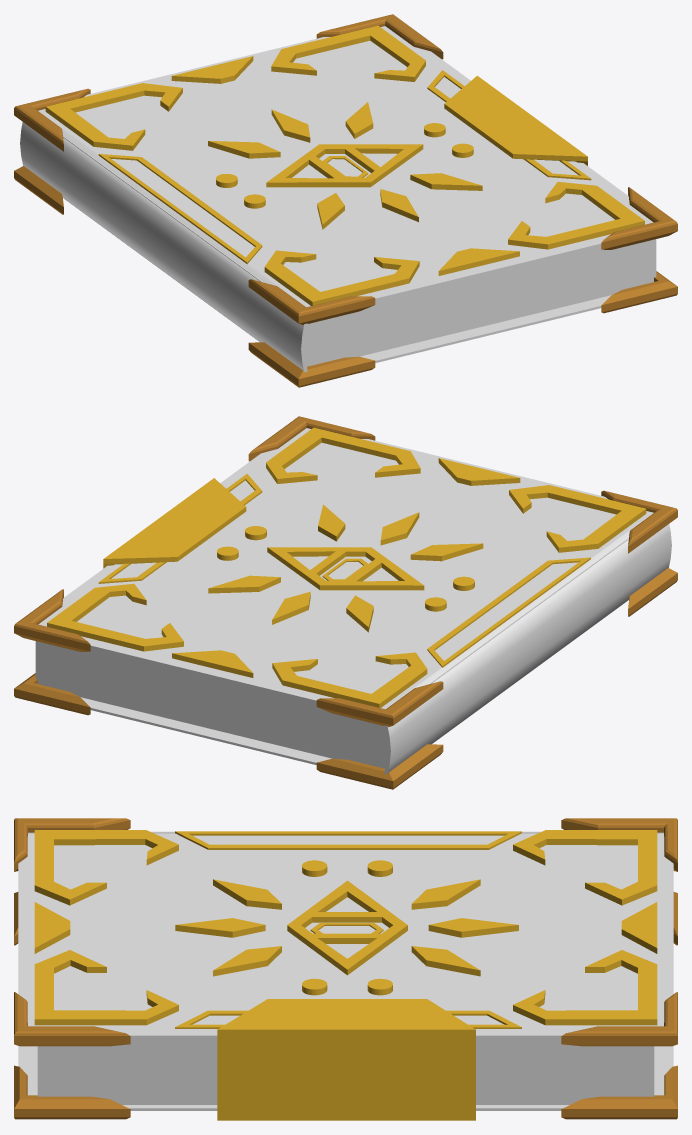
File: electic-bookaloo.fbx
3 renders of one model, top to bottom at view 1: azimuth 30°, elevation 25°; view 2: azimuth 150°, elevation 25°; view 3: azimuth 270°, elevation 25°, orthographic. The views are drawn at different scales.
Parts seen in each view (by area): view 1: Cube, Cube.002, Cube.001, Cube.005, Cube.004, Clip, Eye, Cube.009, Cube.010, Cube.003, Cube.008, Cylinder; view 2: Cube, Cube.002, Cube.001, Cube.005, Cube.004, Clip, Eye, Cube.009, Cube.010, Cube.003, Cube.008, Cylinder; view 3: Cube, Clip, Cube.002, Cube.001, Cube.005, Cube.004, Cube.010, Eye, Cube.009, Cube.003, Cube.008, Cylinder.
Boxes of the visible parts, x1=… form: Cube: x1=20, y1=26, x2=653, y2=372; Cube.002: x1=45, y1=25, x2=644, y2=305; Cube.001: x1=14, y1=14, x2=677, y2=387; Cube.005: x1=65, y1=199, x2=656, y2=366; Cube.004: x1=63, y1=136, x2=656, y2=339; Clip: x1=444, y1=75, x2=587, y2=165; Eye: x1=266, y1=144, x2=423, y2=187; Cube.009: x1=208, y1=102, x2=482, y2=229; Cube.010: x1=98, y1=70, x2=591, y2=264; Cube.003: x1=171, y1=56, x2=519, y2=275; Cube.008: x1=271, y1=109, x2=418, y2=222; Cylinder: x1=216, y1=123, x2=473, y2=208; Cube: x1=38, y1=428, x2=671, y2=774; Cube.002: x1=47, y1=427, x2=646, y2=707; Cube.001: x1=14, y1=416, x2=677, y2=789; Cube.005: x1=35, y1=601, x2=626, y2=768; Cube.004: x1=35, y1=538, x2=628, y2=741; Clip: x1=103, y1=478, x2=246, y2=568; Eye: x1=267, y1=547, x2=424, y2=590; Cube.009: x1=208, y1=504, x2=483, y2=632; Cube.010: x1=98, y1=473, x2=590, y2=667; Cube.003: x1=172, y1=458, x2=520, y2=677; Cube.008: x1=272, y1=512, x2=419, y2=624; Cylinder: x1=217, y1=526, x2=474, y2=611; Cube: x1=18, y1=832, x2=673, y2=1110; Clip: x1=217, y1=999, x2=475, y2=1120; Cube.002: x1=34, y1=830, x2=657, y2=1025; Cube.001: x1=14, y1=818, x2=677, y2=1119; Cube.005: x1=37, y1=1070, x2=654, y2=1104; Cube.004: x1=37, y1=831, x2=654, y2=1069; Cube.010: x1=175, y1=831, x2=521, y2=1028; Eye: x1=287, y1=880, x2=407, y2=975; Cube.009: x1=213, y1=879, x2=480, y2=976; Cube.003: x1=34, y1=902, x2=657, y2=953; Cube.008: x1=175, y1=918, x2=518, y2=937; Cylinder: x1=302, y1=860, x2=392, y2=995.
Bounding box in the file's own units: 290 × 57.17 × 377.
